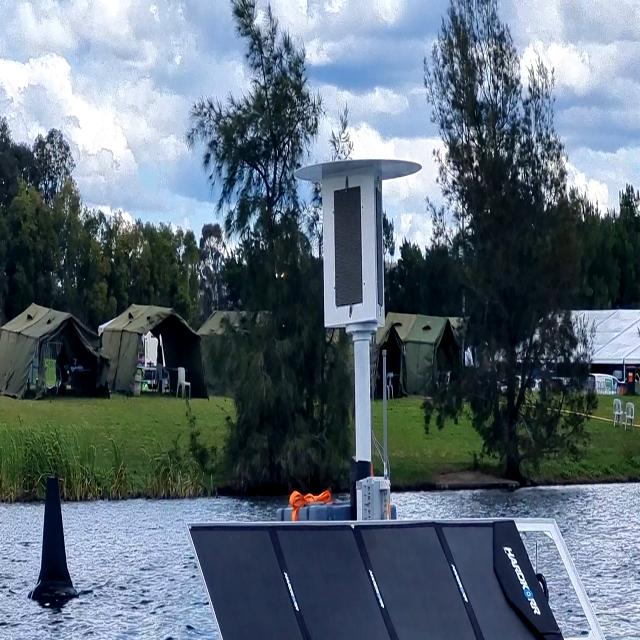led: (330, 182, 370, 305)
